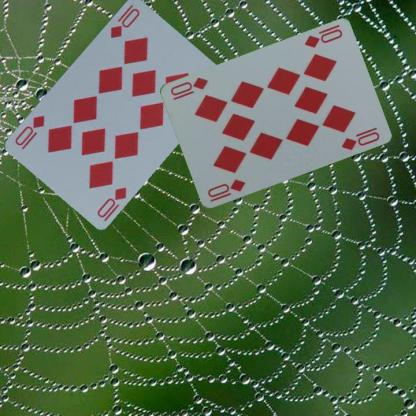10d: (108, 2, 142, 39), (301, 22, 344, 50), (94, 184, 128, 219), (204, 177, 247, 203)
